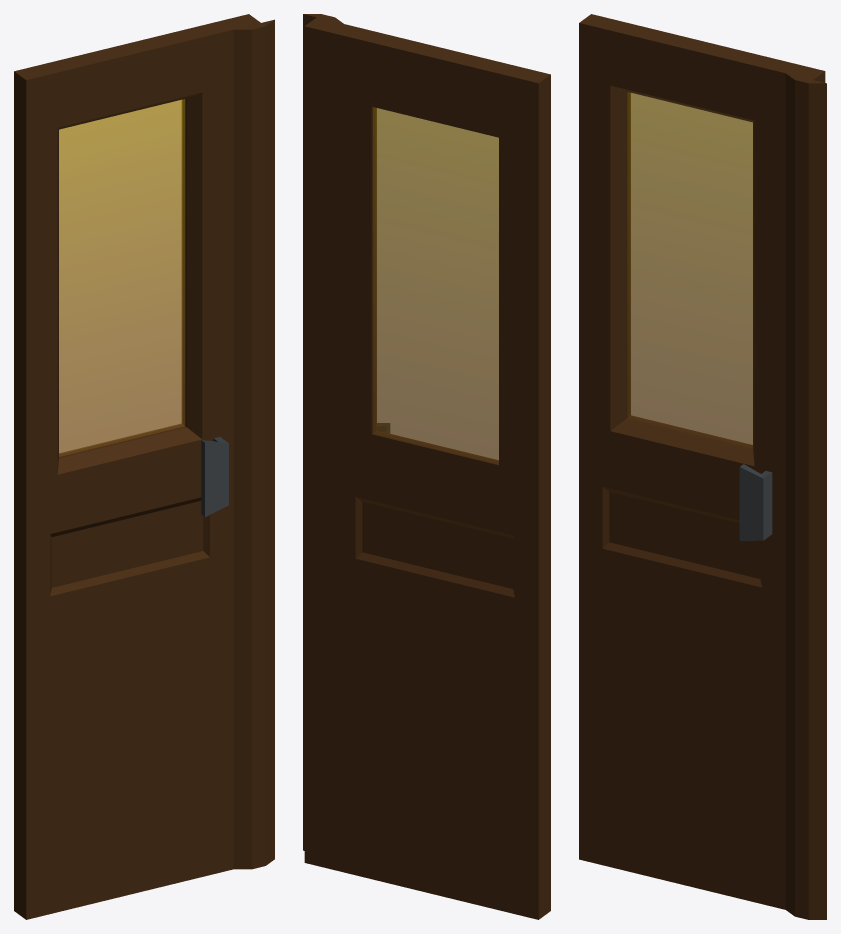
Rendered from SM_Buildings_Bank_Door_L.fbx.
3 renders of one model, left to right at view 1: azimuth 30°, elevation 25°; view 2: azimuth 150°, elevation 25°; view 3: azimuth 330°, elevation 25°, orthographic.
Visible parts, largest first — view 1: SM_Buildings_Bank_Door_L; view 2: SM_Buildings_Bank_Door_L; view 3: SM_Buildings_Bank_Door_L.
Boxes of the visible parts, box(x1,y1,x2,y2) form: SM_Buildings_Bank_Door_L: box(14, 14, 274, 919); SM_Buildings_Bank_Door_L: box(303, 14, 550, 919); SM_Buildings_Bank_Door_L: box(579, 14, 826, 919).
Size of the model in its own units: 0.7611 by 2.46 by 0.1116.
